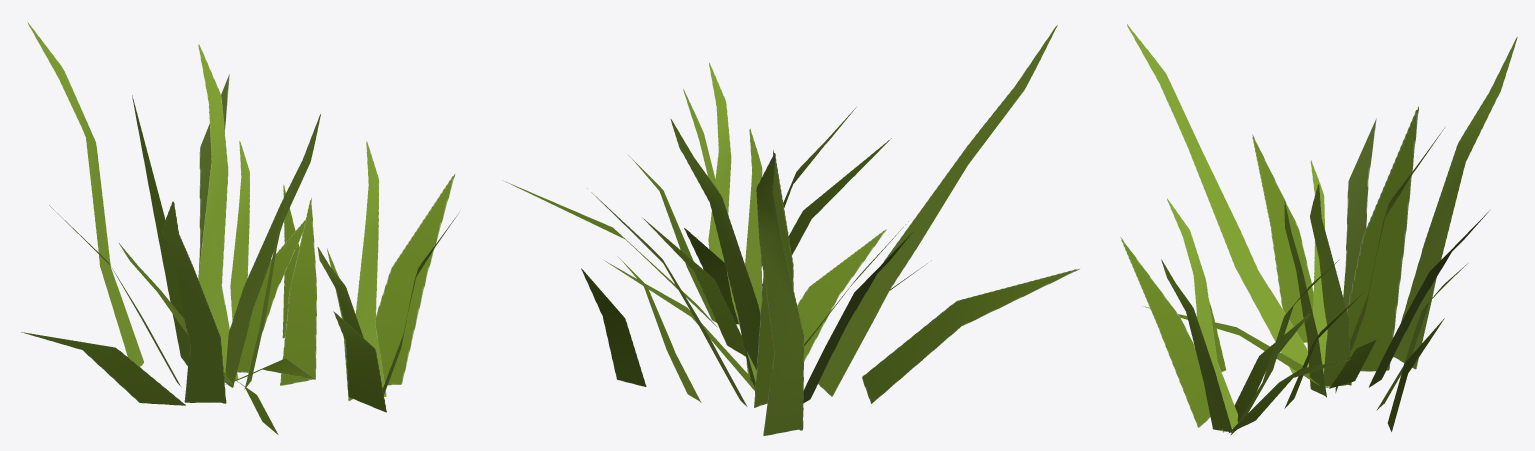
The model's file is SM_Props_Grass_1.fbx.
3 renders of one model, left to right at view 1: azimuth 30°, elevation 25°; view 2: azimuth 150°, elevation 25°; view 3: azimuth 270°, elevation 25°, orthographic. The views are drawn at different scales.
Parts seen in each view (by area): view 1: Feuille70, Feuille64, Feuille3, Feuille75, Feuille65, Feuille59, Feuille71, Feuille66, Feuille68, Feuille4, Feuille61, Feuille74 (+7 smaller); view 2: Feuille65, Feuille64, Feuille66, Feuille3, Feuille62, Feuille4, Feuille76, Feuille67, Feuille75, Feuille77, Feuille63, Feuille68 (+7 smaller); view 3: Feuille4, Feuille64, Feuille65, Feuille66, Feuille68, Feuille59, Feuille63, Feuille72, Feuille67, Feuille77, Feuille5, Feuille60 (+9 smaller).
Part boxes in pixels (x1,y1,x2,y2): Feuille70: [375, 174, 455, 385]; Feuille64: [162, 201, 226, 403]; Feuille3: [198, 44, 238, 380]; Feuille75: [280, 198, 316, 385]; Feuille65: [27, 22, 143, 366]; Feuille59: [225, 114, 320, 387]; Feuille71: [355, 141, 386, 396]; Feuille66: [21, 332, 185, 405]; Feuille68: [333, 311, 386, 412]; Feuille4: [132, 95, 190, 365]; Feuille61: [237, 220, 305, 372]; Feuille74: [230, 140, 249, 321]; Feuille65: [756, 153, 804, 435]; Feuille64: [818, 25, 1057, 396]; Feuille66: [862, 269, 1079, 403]; Feuille3: [670, 118, 760, 388]; Feuille62: [797, 229, 886, 361]; Feuille4: [754, 150, 793, 407]; Feuille76: [581, 268, 646, 386]; Feuille67: [708, 62, 731, 262]; Feuille75: [642, 217, 745, 356]; Feuille77: [745, 128, 762, 376]; Feuille63: [803, 232, 912, 403]; Feuille68: [762, 138, 891, 289]; Feuille4: [1347, 106, 1418, 371]; Feuille64: [1127, 24, 1308, 377]; Feuille65: [1393, 37, 1517, 369]; Feuille66: [1252, 134, 1313, 342]; Feuille68: [1120, 237, 1210, 427]; Feuille59: [1310, 184, 1351, 387]; Feuille63: [1343, 118, 1376, 310]; Feuille72: [1167, 198, 1238, 432]; Feuille67: [1161, 259, 1232, 432]; Feuille77: [1284, 201, 1326, 397]; Feuille5: [1368, 210, 1489, 387]; Feuille60: [1310, 160, 1345, 386].
Size of the model in its own units: 0.2279 by 0.142 by 0.1664.
